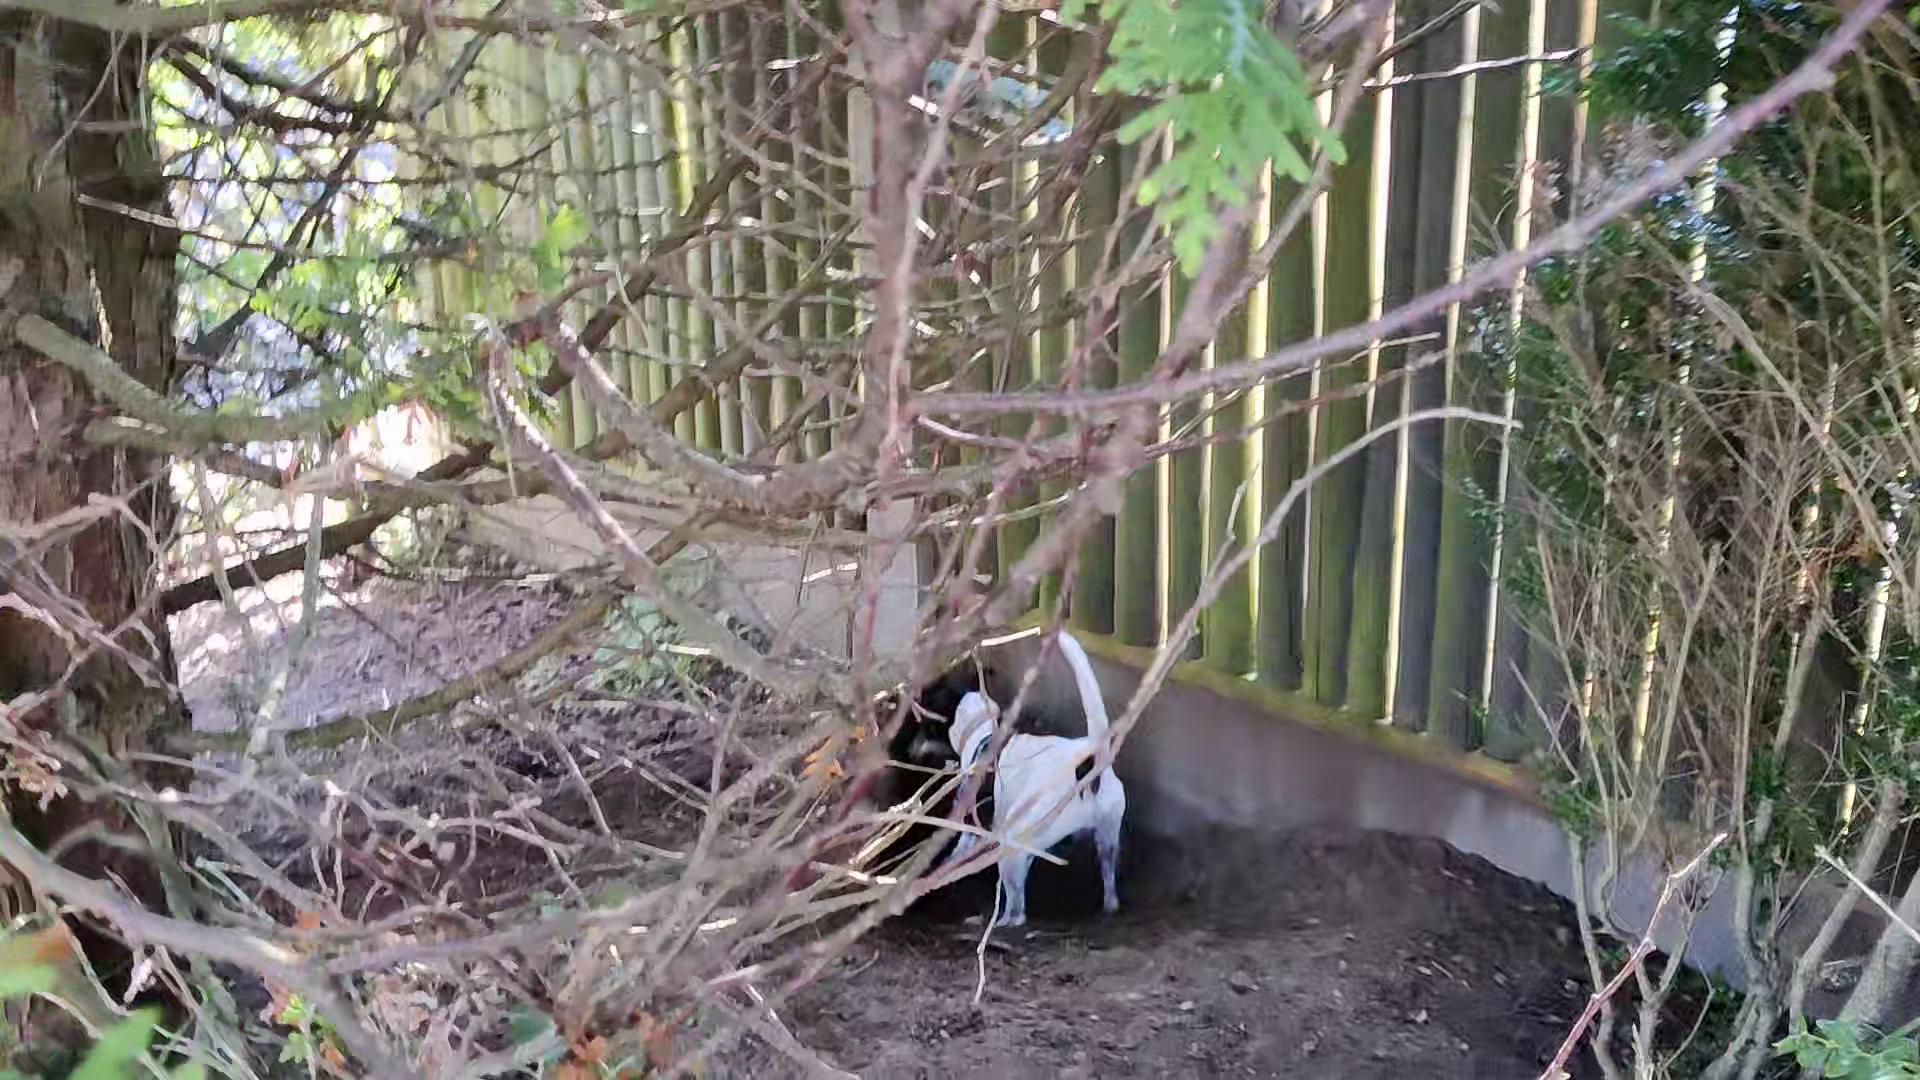Dog: (901, 621, 1139, 934)
